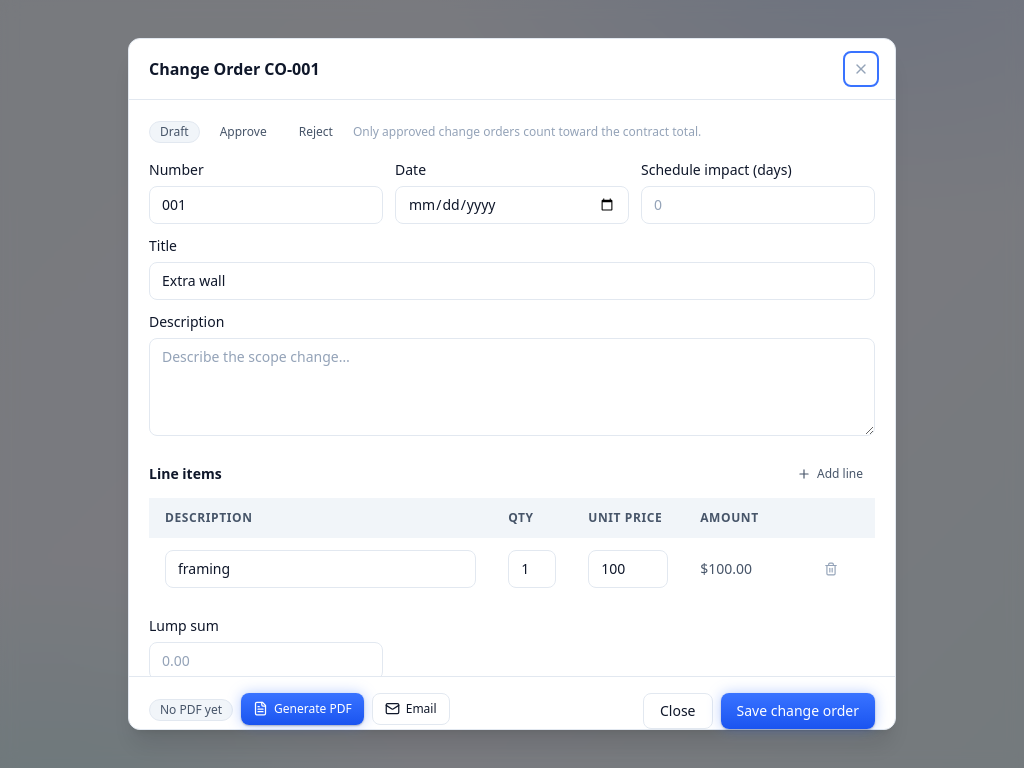
Test: ChangeOrderEditor — document actions › reports a failed re-read instead of storing pre-save bytes
This screenshot has width=1024, height=768.
Click the button with test id "doc-generate" at [302, 709], box [241, 693, 364, 725]
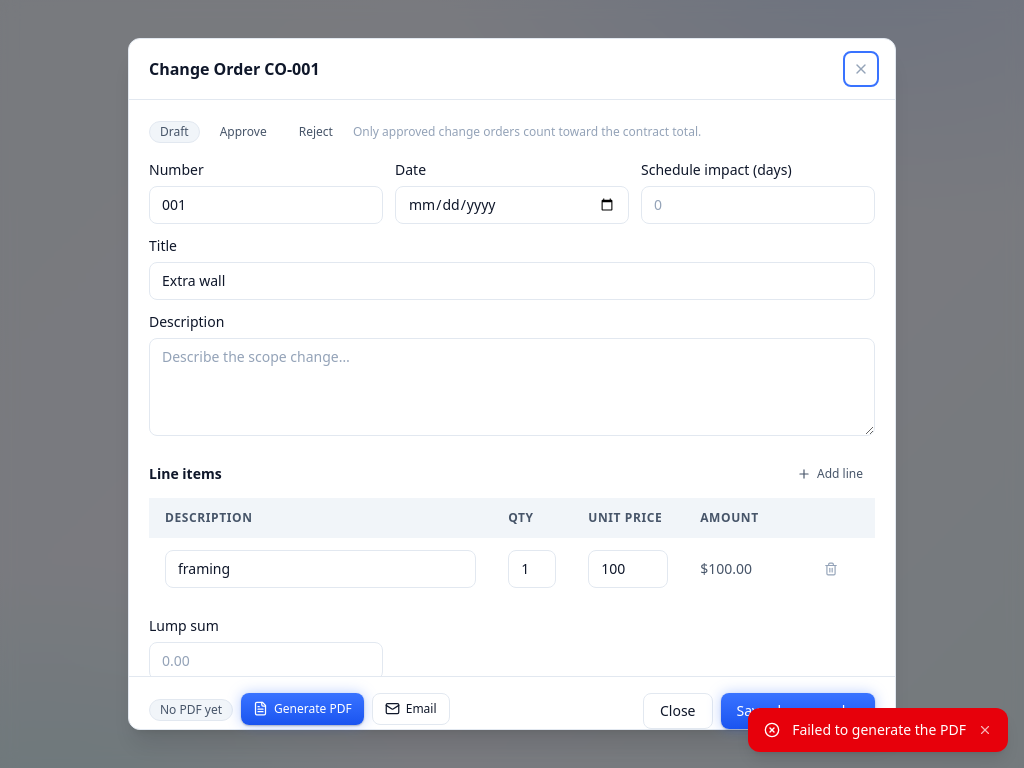
Now the text "Failed to generate the PDF" is shown, box [792, 720, 966, 740]
